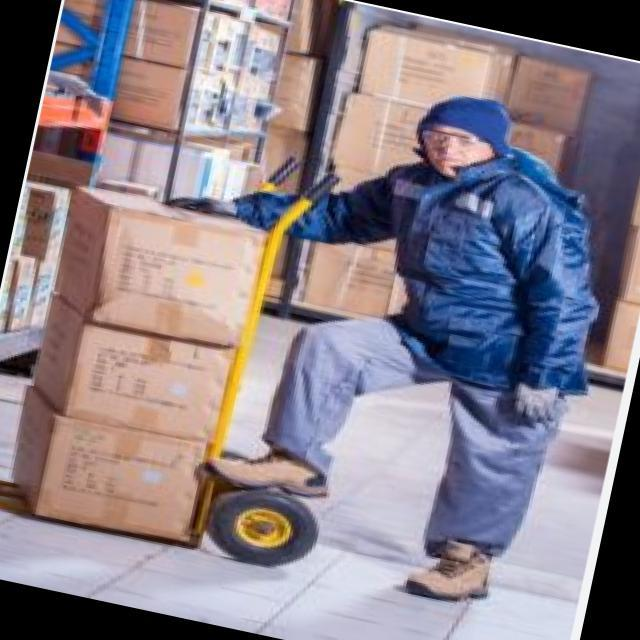boots: (187, 423, 524, 616)
